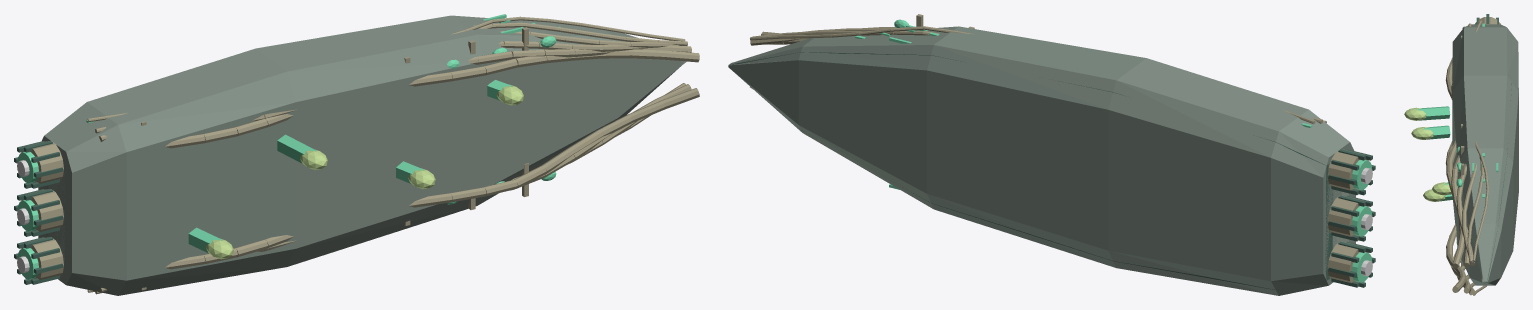
The model's file is flag-verdant.glb.
3 renders of one model, left to right at view 1: azimuth 30°, elevation 25°; view 2: azimuth 150°, elevation 25°; view 3: azimuth 270°, elevation 25°, orthographic. The views are drawn at different scales.
Parts seen in each view (by area): view 1: hull_0000, engine_casing_0081, engine_casing_0070, engine_casing_0059, crystal_spine_0322, crystal_spine_0320; view 2: hull_0000, lower_keel_0002, engine_casing_0081, engine_casing_0070, engine_casing_0059; view 3: hull_0000, crystal_spine_0322, crystal_spine_0320, crystal_tip_0321, crystal_tip_0323, crystal_tip_0327, crystal_tip_0325, vines_0319, engine_casing_0081, vines_0318, vines_0278, lower_keel_0002 (+3 smaller).
Boxes of the visible parts, box(x1,y1,x2,y2) form: hull_0000: box(38, 15, 685, 295); engine_casing_0081: box(21, 140, 63, 183); engine_casing_0070: box(21, 189, 63, 231); engine_casing_0059: box(21, 237, 63, 279); crystal_spine_0322: box(277, 134, 316, 163); crystal_spine_0320: box(188, 227, 222, 253); hull_0000: box(728, 26, 1355, 295); lower_keel_0002: box(729, 52, 1332, 289); engine_casing_0081: box(1327, 149, 1368, 190); engine_casing_0070: box(1327, 195, 1368, 236); engine_casing_0059: box(1327, 242, 1368, 282); hull_0000: box(1452, 24, 1518, 285); crystal_spine_0322: box(1416, 106, 1450, 120); crystal_spine_0320: box(1423, 125, 1450, 139); crystal_tip_0321: box(1411, 127, 1433, 139); crystal_tip_0323: box(1404, 107, 1426, 120); crystal_tip_0327: box(1432, 182, 1451, 195); crystal_tip_0325: box(1423, 189, 1445, 201); vines_0319: box(1452, 248, 1463, 268); engine_casing_0081: box(1475, 17, 1500, 24); vines_0318: box(1457, 232, 1464, 250); vines_0278: box(1456, 196, 1462, 214); lower_keel_0002: box(1486, 83, 1511, 282).
Size of the model in its own units: 22.49 by 6.3 by 4.89.
